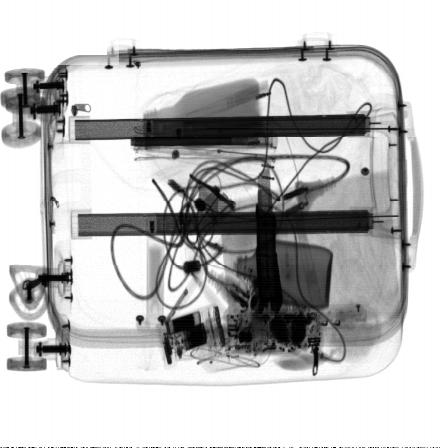Knife: (255, 161, 284, 314)
